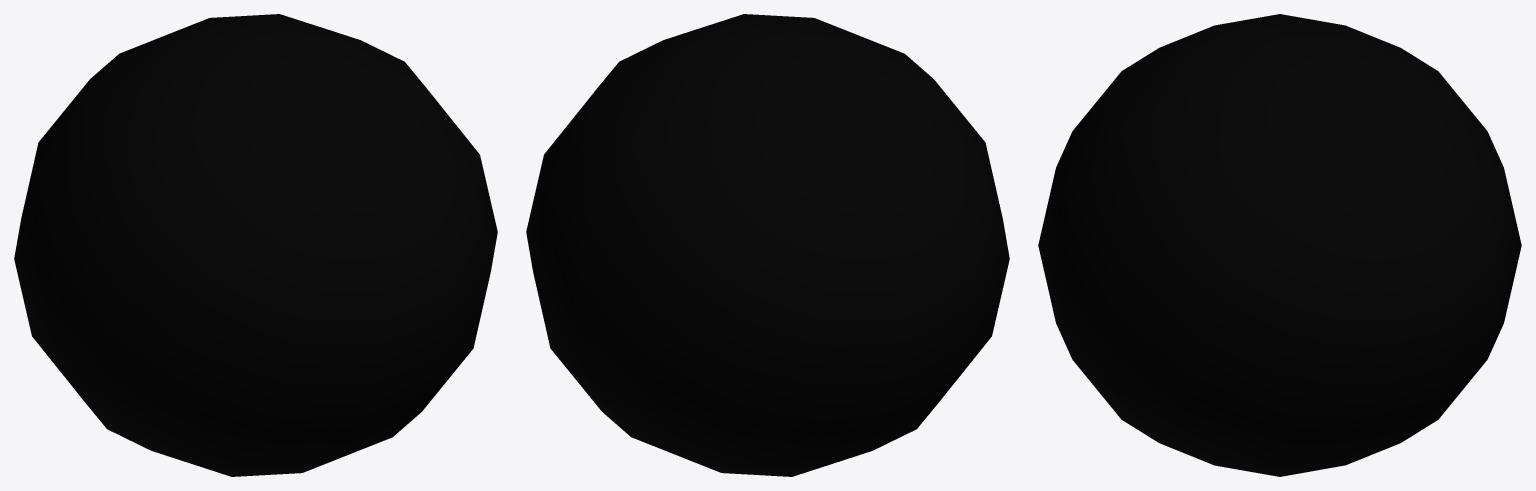
File: daliang_field_a_s06.fbx
3 views of the same model, side by side, from view 1: azimuth 30°, elevation 25°; view 2: azimuth 150°, elevation 25°; view 3: azimuth 270°, elevation 25° (orthographic).
Visible parts, largest first — view 1: daliang_field_a_s01:daliang_field_a_s01; view 2: daliang_field_a_s01:daliang_field_a_s01; view 3: daliang_field_a_s01:daliang_field_a_s01.
Part boxes in pixels (<box>): daliang_field_a_s01:daliang_field_a_s01: <box>14,14,497,476</box>; daliang_field_a_s01:daliang_field_a_s01: <box>526,14,1009,476</box>; daliang_field_a_s01:daliang_field_a_s01: <box>1038,14,1521,476</box>.
Bounding box in the file's own units: 6598 × 6279 × 6598.
